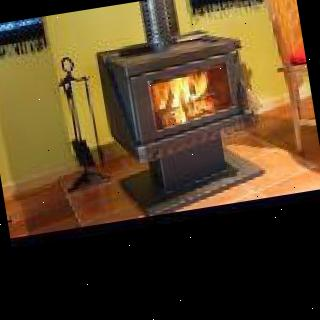fire: (147, 63, 236, 128)
